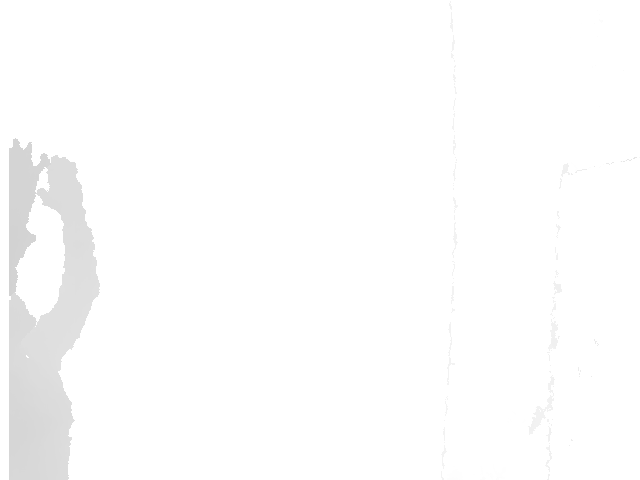hand: (7, 137, 50, 223), (36, 153, 88, 219)
person: (8, 137, 102, 480)
